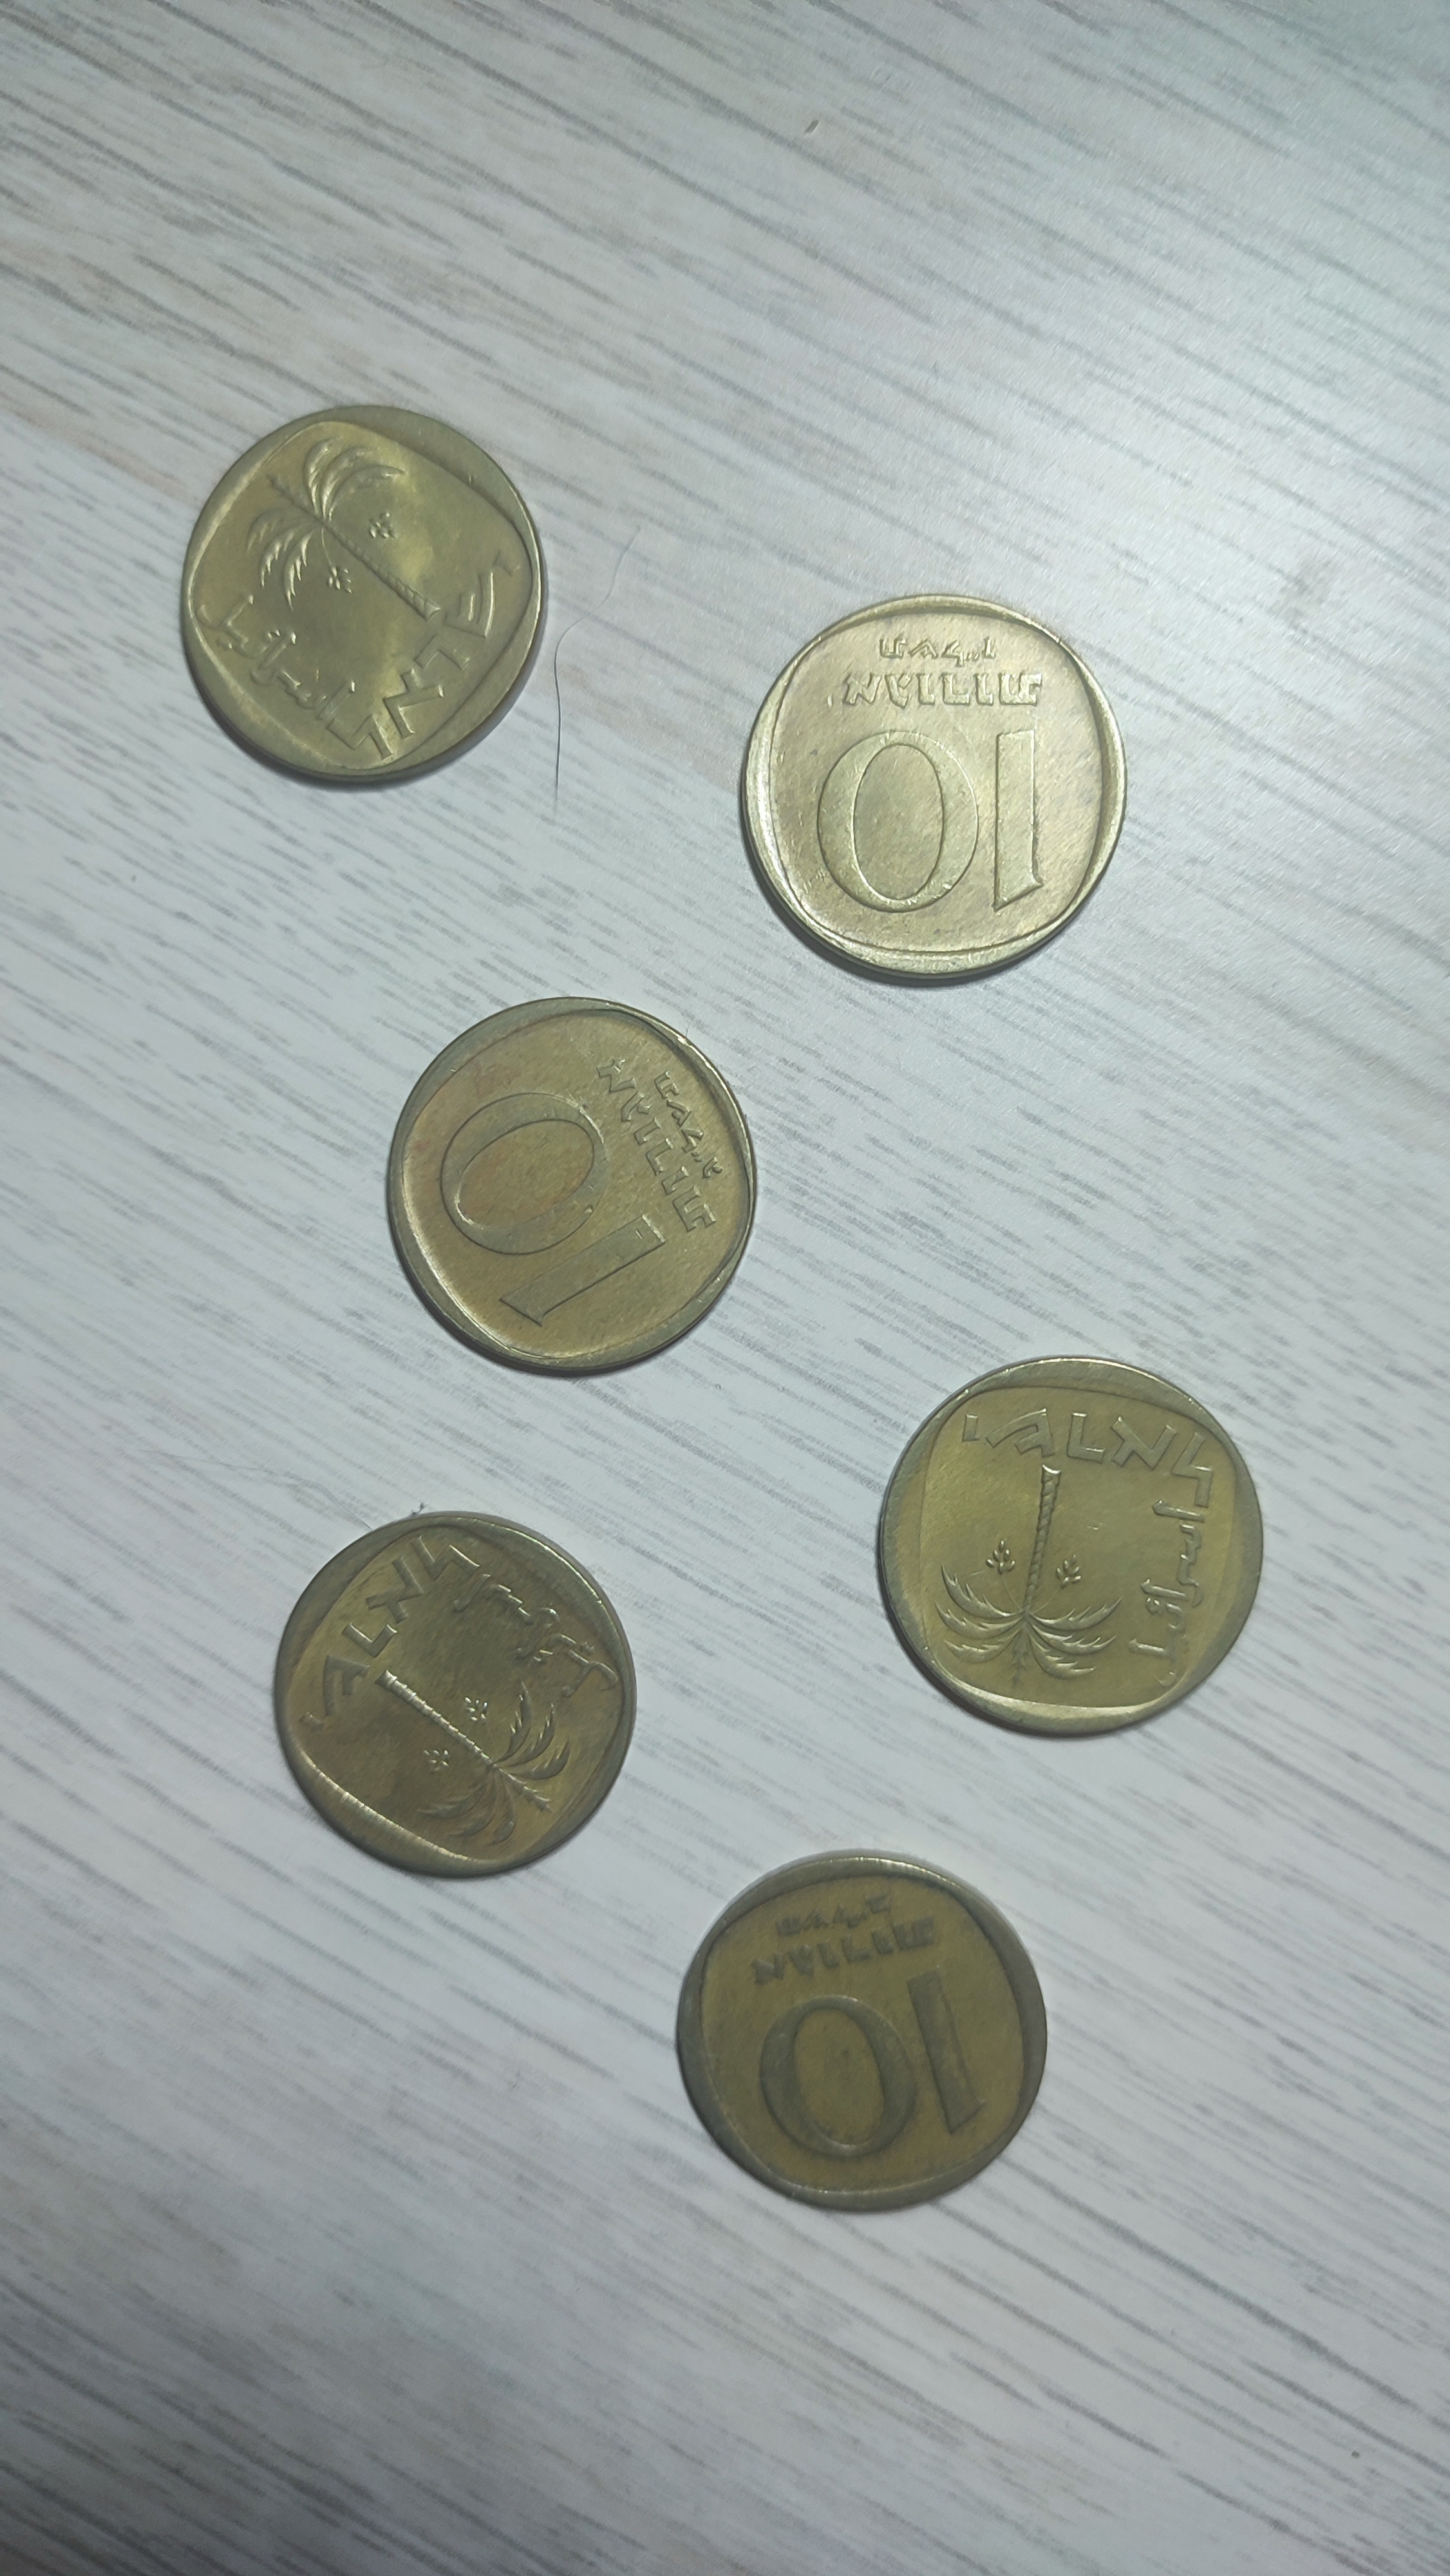10 old agora brown: (863, 1348, 1271, 1746), (734, 589, 1130, 993), (375, 987, 766, 1392), (168, 400, 552, 794), (263, 1506, 647, 1886), (668, 1844, 1054, 2222)
